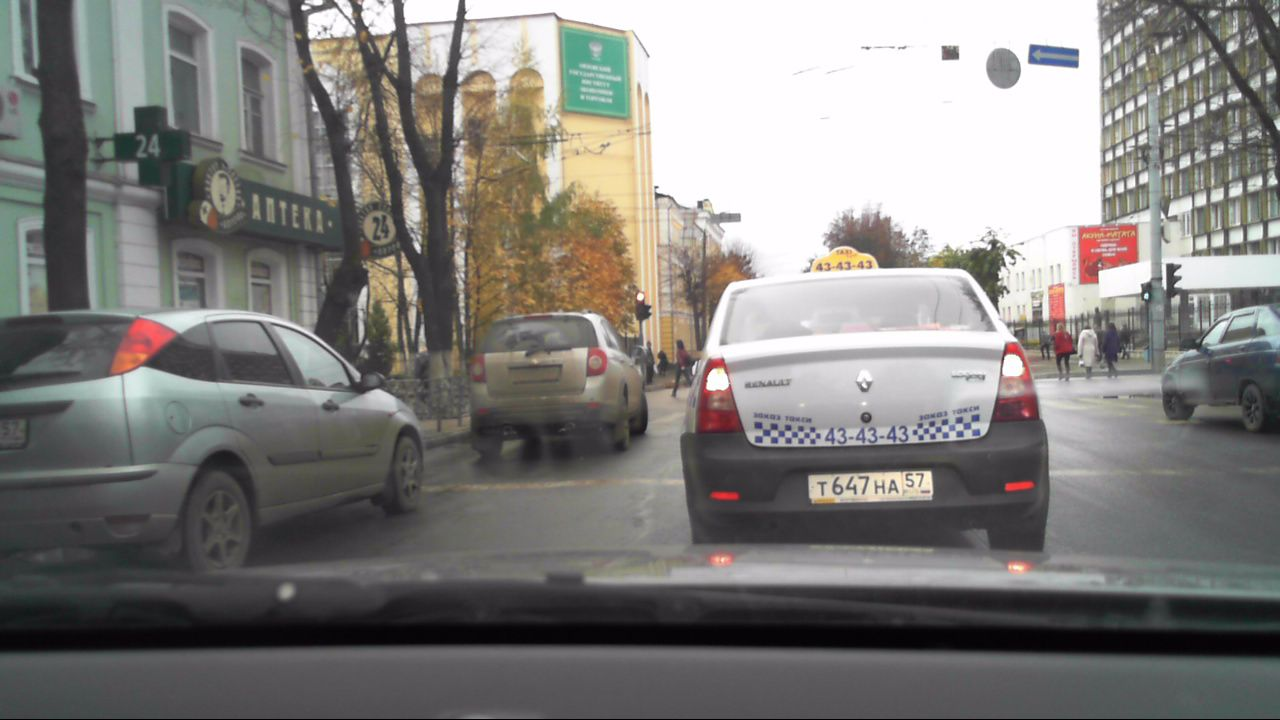One-Way Traffic: (1028, 44, 1079, 67)
